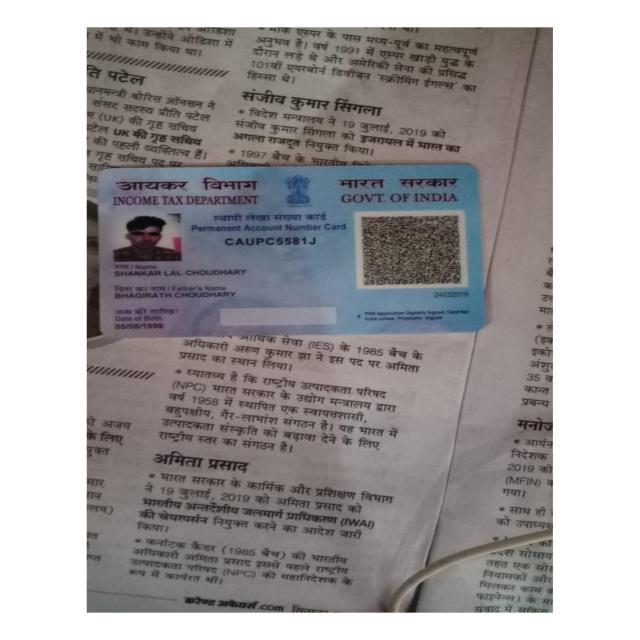pan_card: (99, 165, 481, 334)
